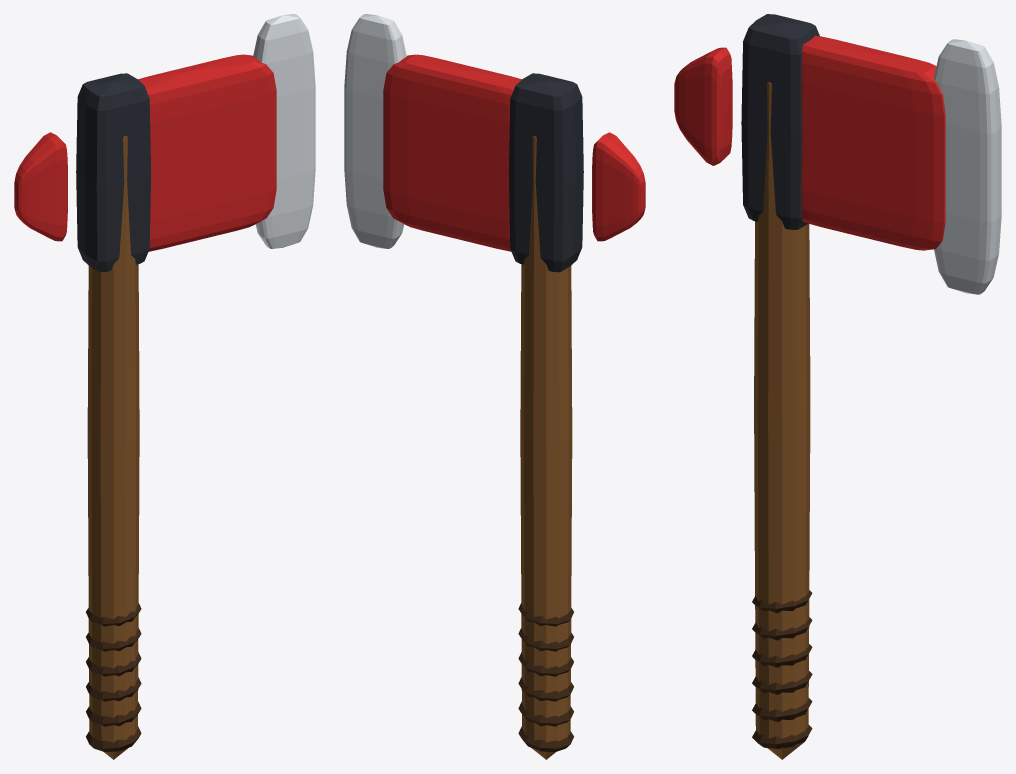
The model's file is m-axe.glb.
The picture shows the model from 3 angles, left to right: view 1: azimuth 30°, elevation 25°; view 2: azimuth 150°, elevation 25°; view 3: azimuth 330°, elevation 25°; orthographic projection. The views are drawn at different scales.
Parts seen in each view (by area): view 1: melee; view 2: melee; view 3: melee.
Boxes of the visible parts, bbox=[...] form: melee: bbox=[14, 14, 315, 759]; melee: bbox=[344, 14, 645, 759]; melee: bbox=[674, 14, 1001, 759].
Bounding box in the file's own units: 1.12 × 2.54 × 0.1759.
